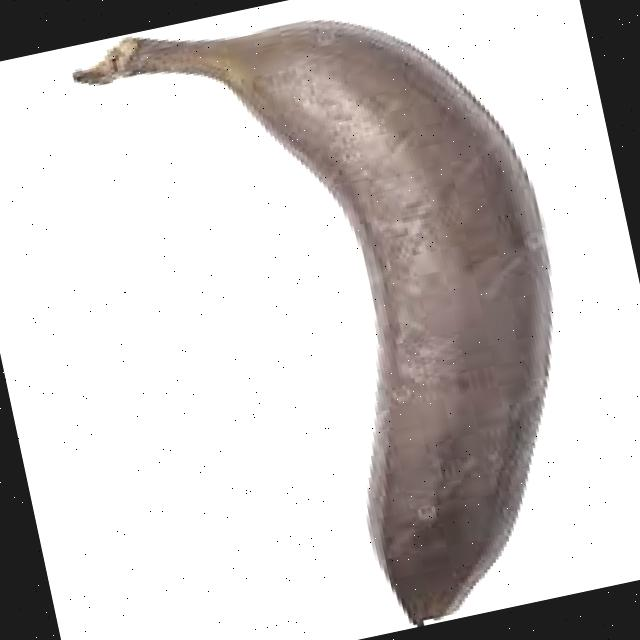Rotten: (59, 0, 638, 640)
